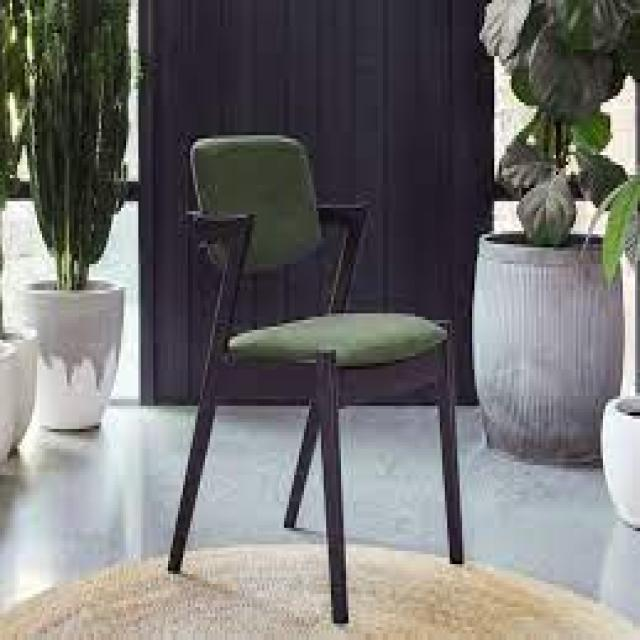chair: (121, 102, 482, 618)
